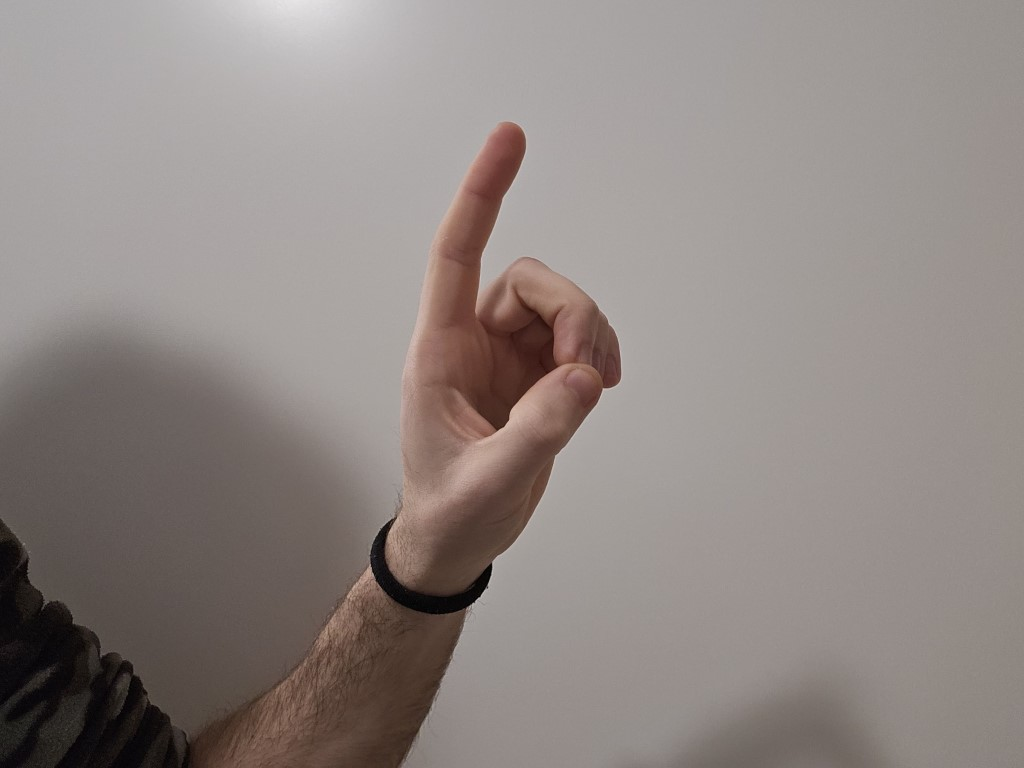d: (358, 109, 649, 559)
